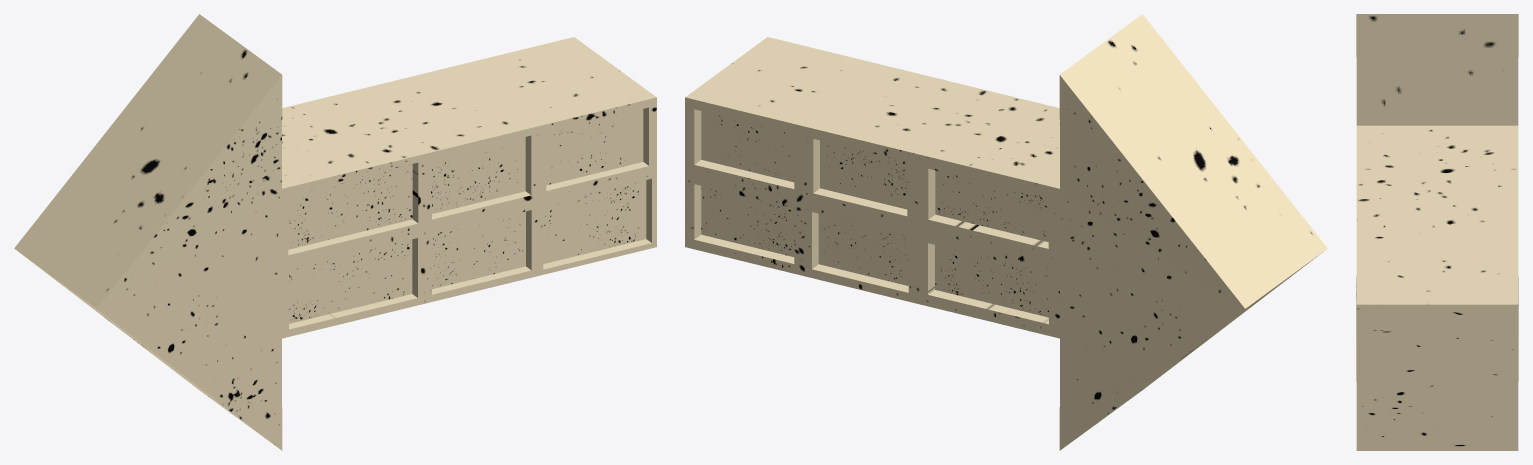
File: WhiteChocolateArrow.fbx
3 renders of one model, left to right at view 1: azimuth 30°, elevation 25°; view 2: azimuth 150°, elevation 25°; view 3: azimuth 270°, elevation 25°, orthographic. The views are drawn at different scales.
Parts seen in each view (by area): view 1: Cube; view 2: Cube; view 3: Cube.
Part boxes in pixels (x1,y1,x2,y2): Cube: (14, 14, 656, 450); Cube: (685, 14, 1327, 450); Cube: (1356, 14, 1518, 450).
Size of the model in its own units: 783 by 503 by 201.
1 material, 1 textured.
